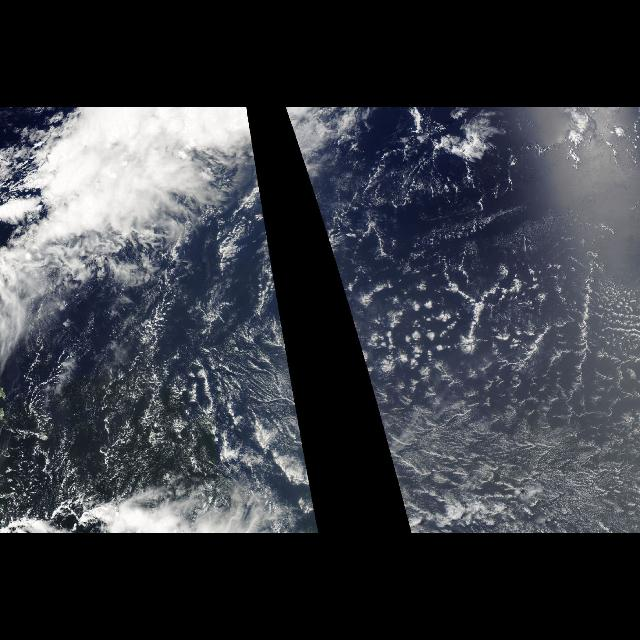Sugar: (328, 238, 636, 522), (222, 238, 318, 522)
